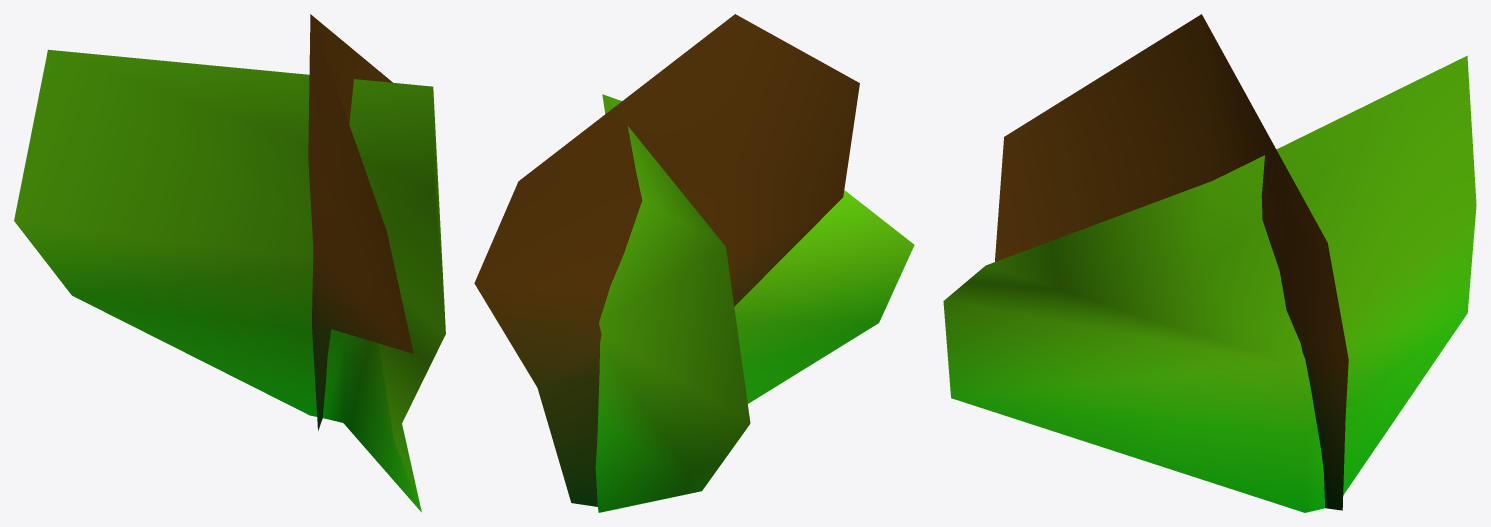
File: Var1Hi29.fbx
The picture shows the model from 3 angles, left to right: view 1: azimuth 30°, elevation 25°; view 2: azimuth 150°, elevation 25°; view 3: azimuth 270°, elevation 25°; orthographic projection. The views are drawn at different scales.
Visible parts, largest first — view 1: bend1; view 2: bend1; view 3: bend1.
Part boxes in pixels (x1,y1,x2,y2): bend1: (14, 14, 445, 512); bend1: (474, 14, 914, 512); bend1: (943, 14, 1476, 512).
Size of the model in its own units: 1.04 by 1.36 by 1.42.
